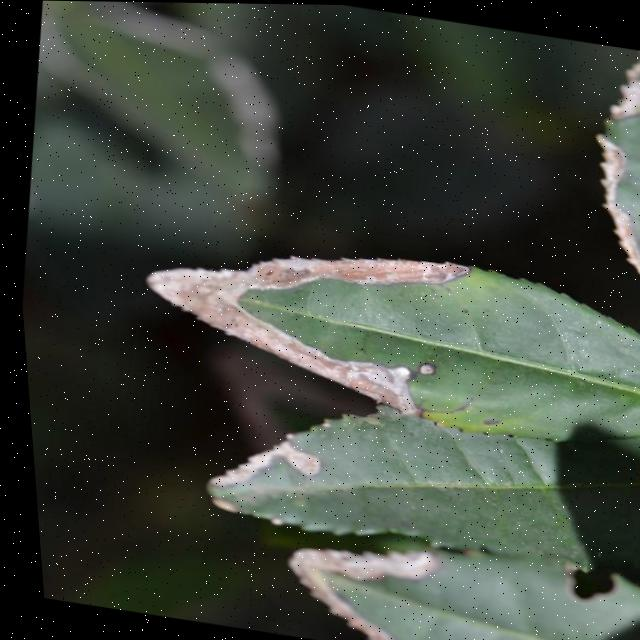Tea cloud leaf blight: (144, 194, 499, 416), (253, 533, 437, 640), (566, 61, 640, 314), (179, 424, 338, 537)
